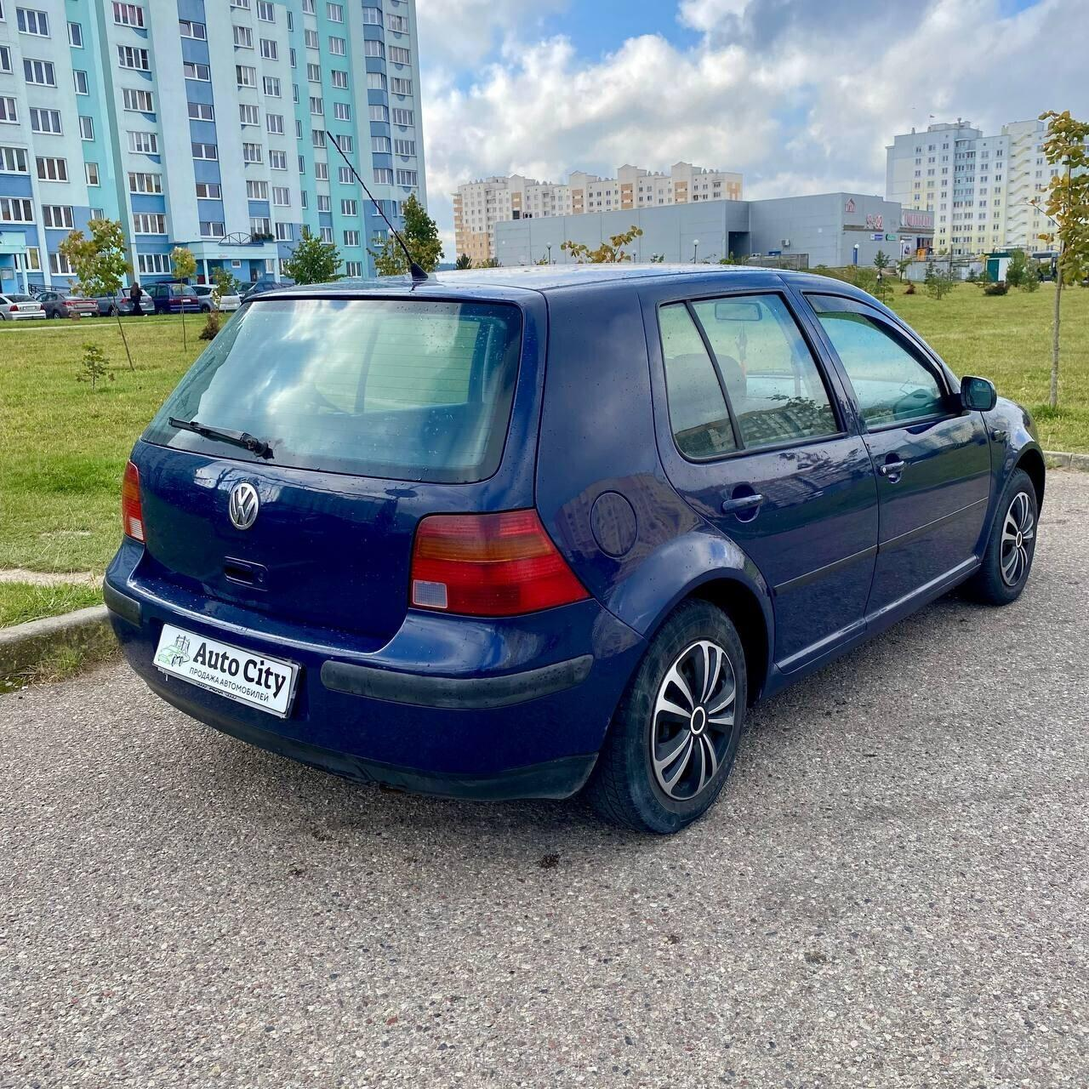Golf_1997-2006: (102, 256, 1053, 834)
